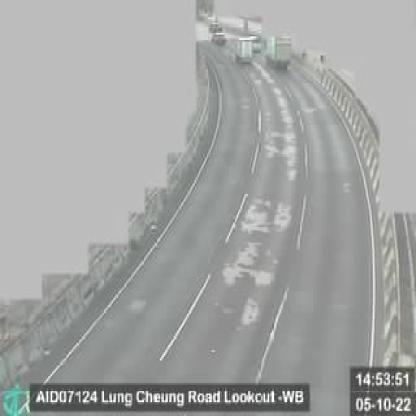Car: (209, 31, 228, 45)
Truck: (264, 33, 290, 71), (234, 35, 252, 66)
